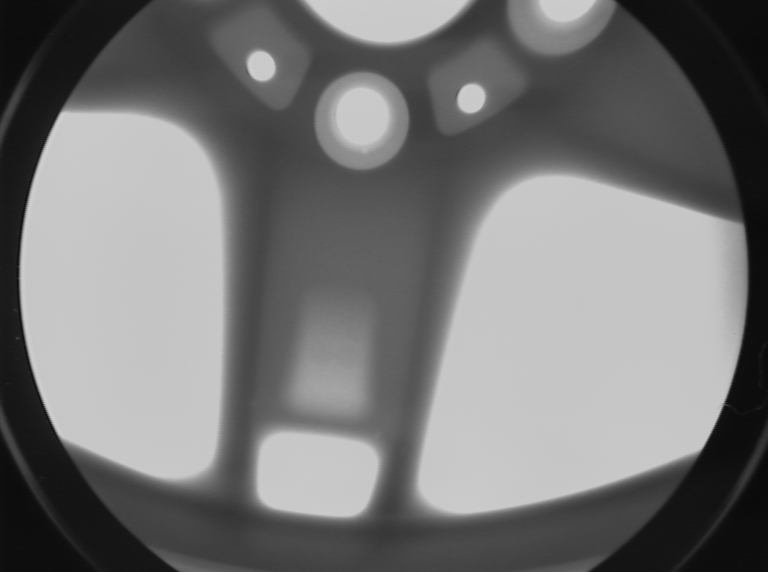defect: (242, 396, 263, 415)
